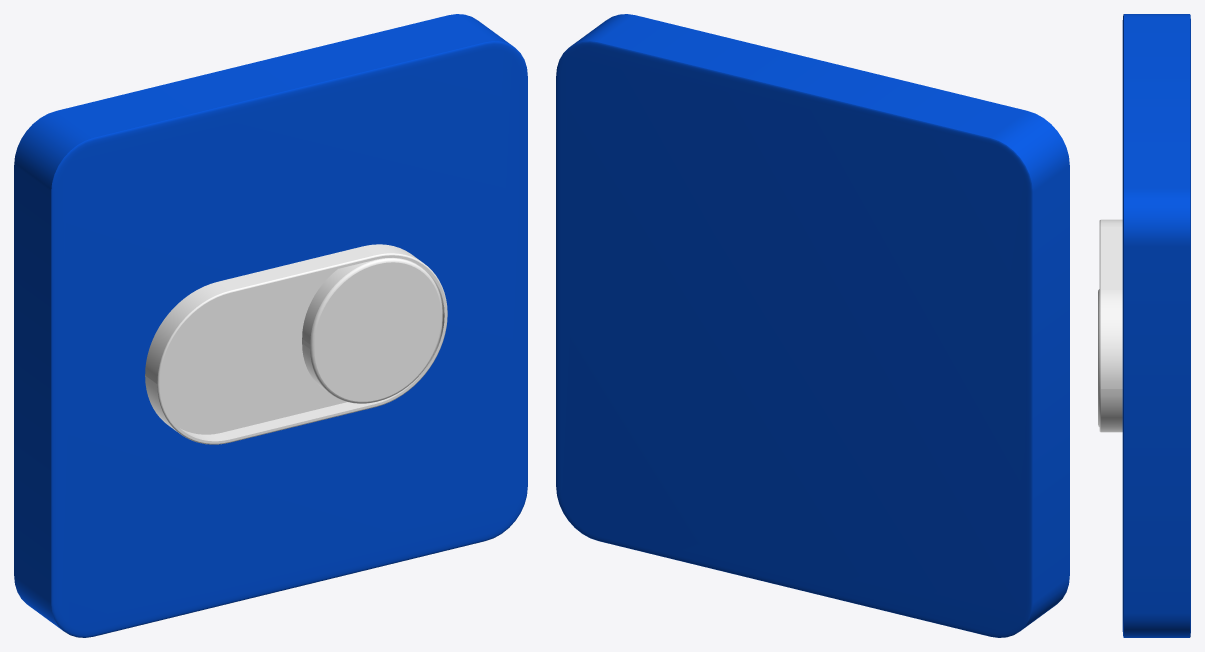
File: switch.glb
The picture shows the model from 3 angles, left to right: view 1: azimuth 30°, elevation 25°; view 2: azimuth 150°, elevation 25°; view 3: azimuth 270°, elevation 25°; orthographic projection. The views are drawn at different scales.
Parts seen in each view (by area): view 1: Cube.004, Extrude.001; view 2: Cube.004; view 3: Cube.004, Extrude.001.
Part boxes in pixels (left/top/right/bottom): Cube.004: left=14, top=14, right=527, bottom=637; Extrude.001: left=145, top=244, right=447, bottom=444; Cube.004: left=556, top=14, right=1069, bottom=637; Cube.004: left=1122, top=14, right=1190, bottom=637; Extrude.001: left=1098, top=219, right=1122, bottom=432.
Size of the model in its own units: 27 by 27 by 5.1.
